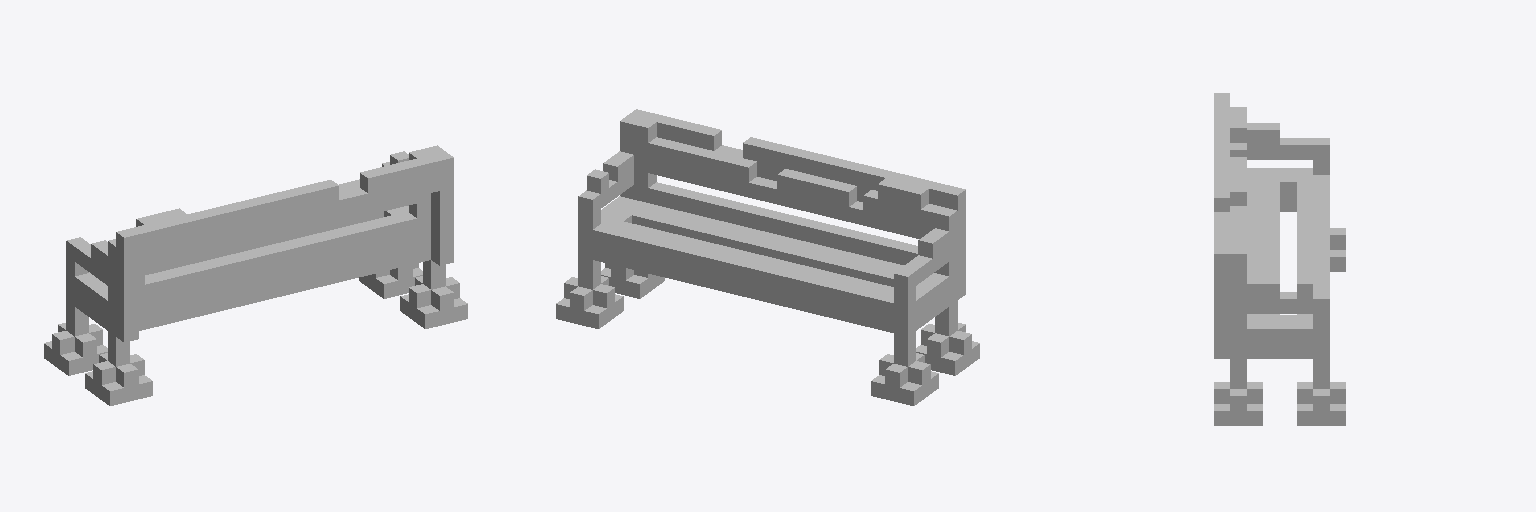
File: Bench_1.obj
3 views of the same model, side by side, from view 1: azimuth 30°, elevation 25°; view 2: azimuth 150°, elevation 25°; view 3: azimuth 270°, elevation 25° (orthographic).
Visible parts, largest first — view 1: object 1; view 2: object 1; view 3: object 1.
Boxes of the visible parts, x1=… form: object 1: x1=44, y1=145, x2=467, y2=405; object 1: x1=556, y1=109, x2=979, y2=405; object 1: x1=1214, y1=93, x2=1345, y2=425.
Size of the model in its own units: 2.5 by 1.1 by 0.8.